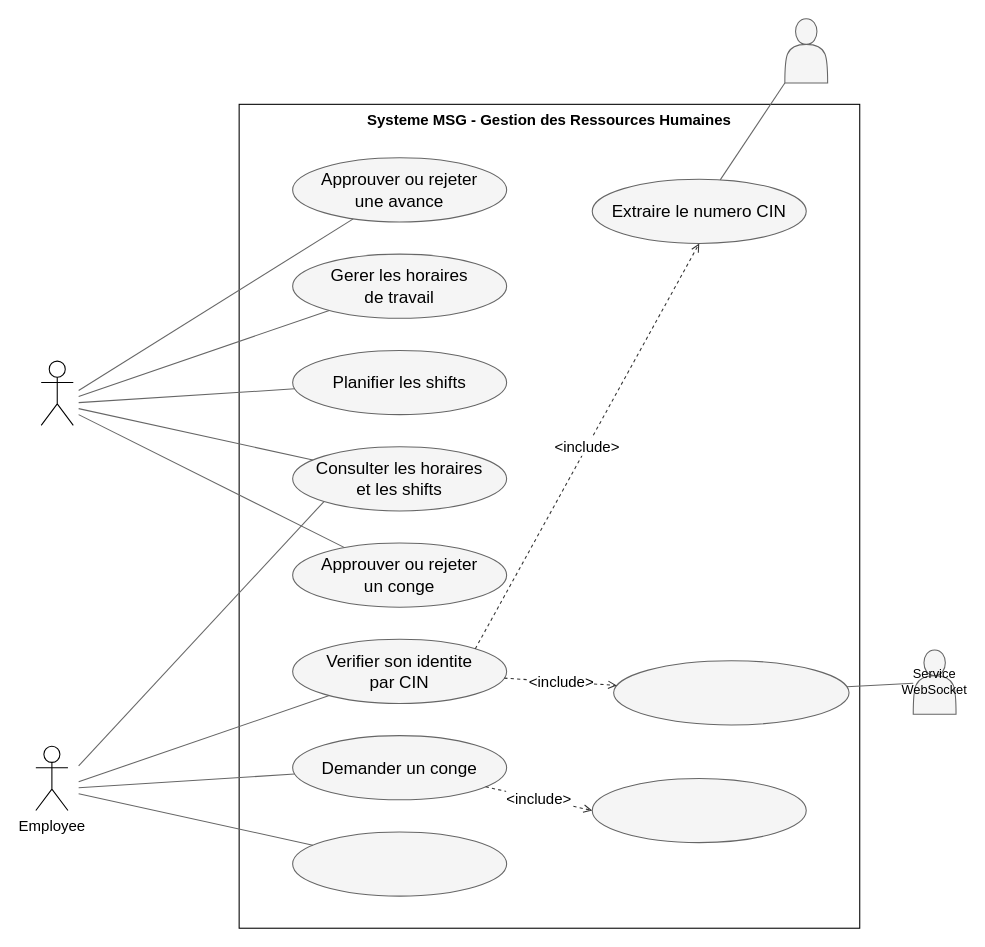
Image size: 985x947. Some labels were removed from this diagram. The centre of each missing label's shape, as x and y in pixels:
Admin: the point at 56,392
Calculer les jours ouvres: the point at 698,810
Demander une avance sur salaire: the point at 399,863
Notifier l'Admin de la verification reussie: the point at 731,692
Service OCR: the point at 806,50
